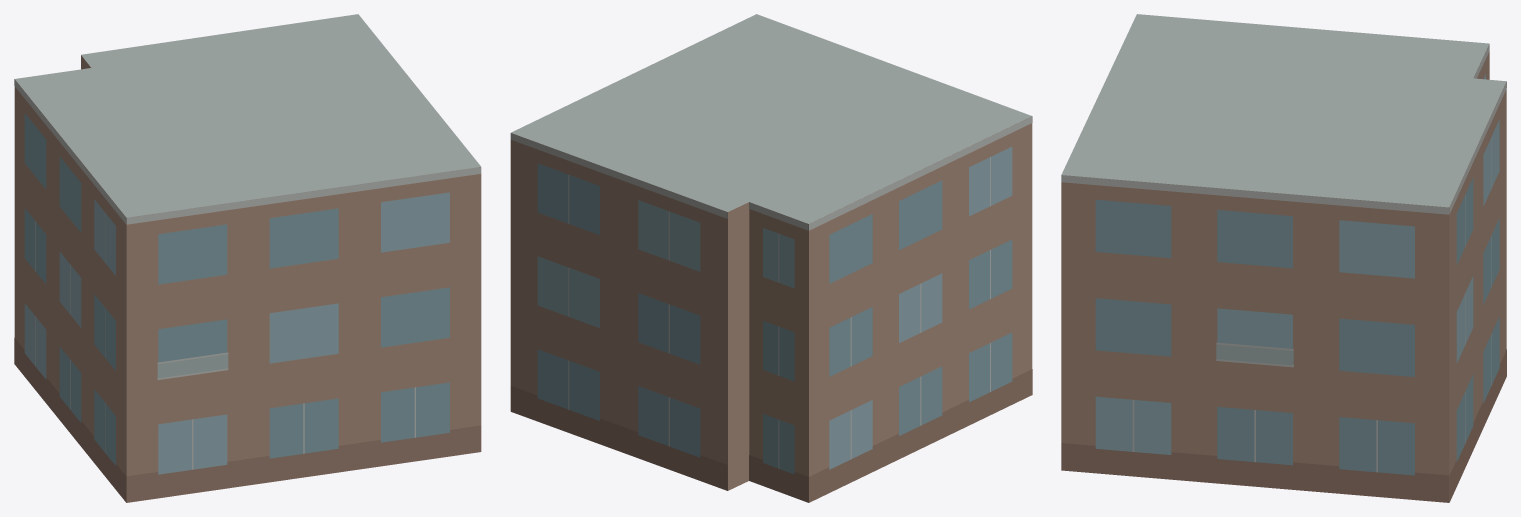
File: survey-upis-32799426.glb
The picture shows the model from 3 angles, left to right: view 1: azimuth 30°, elevation 25°; view 2: azimuth 150°, elevation 25°; view 3: azimuth 270°, elevation 25°; orthographic projection. The views are drawn at different scales.
Parts seen in each view (by area): view 1: survey-upis-32799426.tmp; view 2: survey-upis-32799426.tmp; view 3: survey-upis-32799426.tmp.
Part boxes in pixels (x1=…): survey-upis-32799426.tmp: x1=14, y1=14, x2=481, y2=502; survey-upis-32799426.tmp: x1=510, y1=14, x2=1032, y2=502; survey-upis-32799426.tmp: x1=1061, y1=14, x2=1506, y2=502.
Size of the model in its own units: 14.06 by 10 by 13.68.
